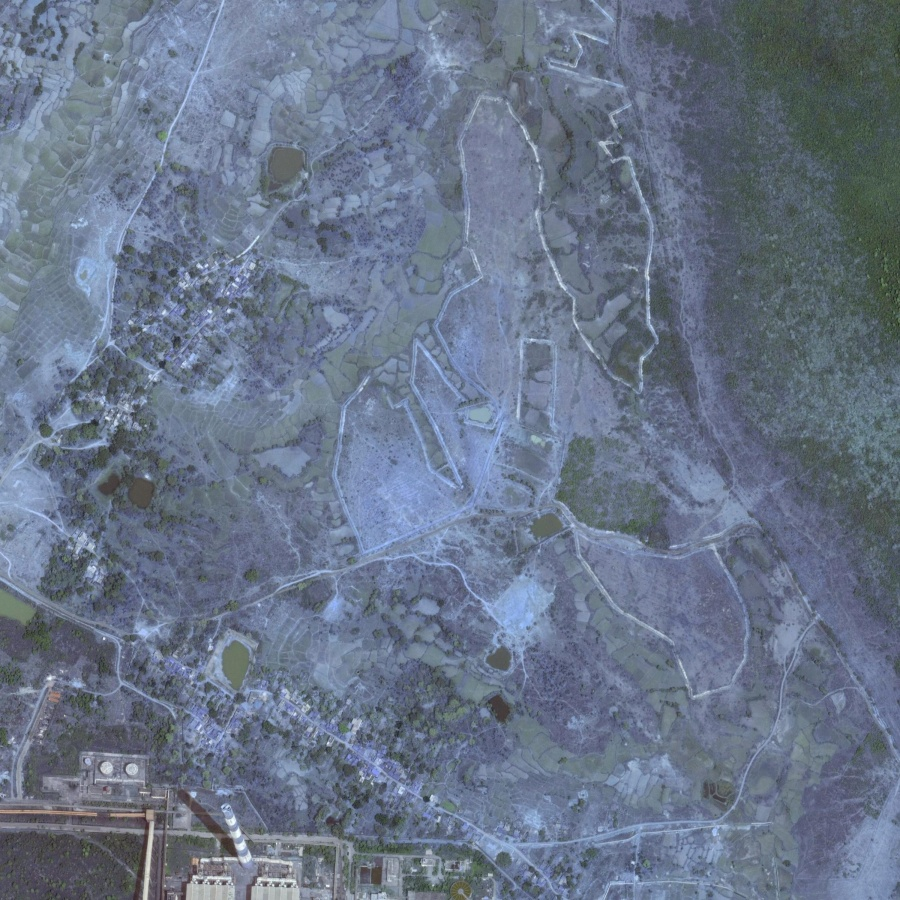PowerPlant: (152, 764, 306, 897)
